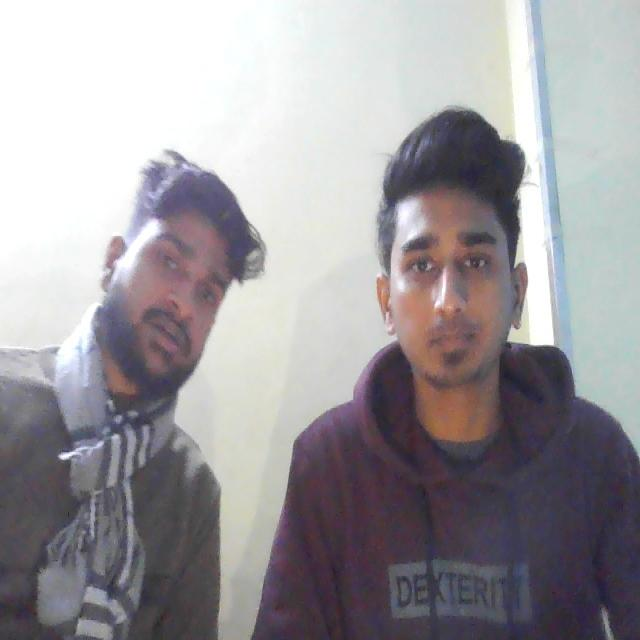real: (380, 121, 531, 407), (110, 168, 227, 389)
